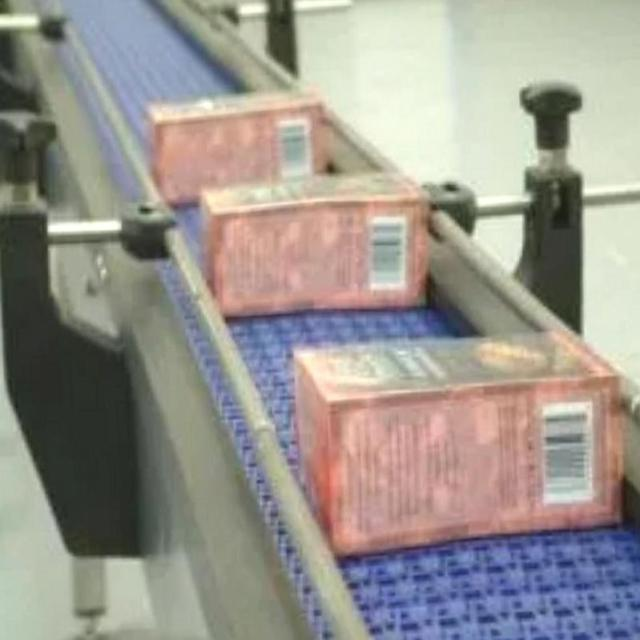food: (290, 327, 626, 560), (198, 169, 432, 319)
